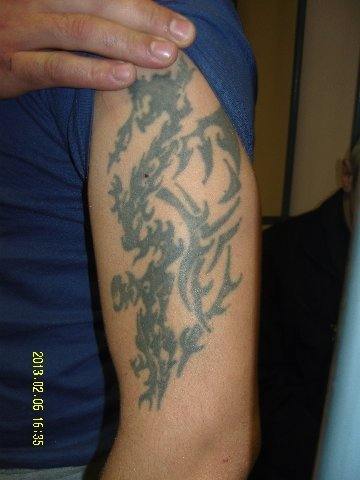tatu6_drakon: (89, 60, 255, 417)
